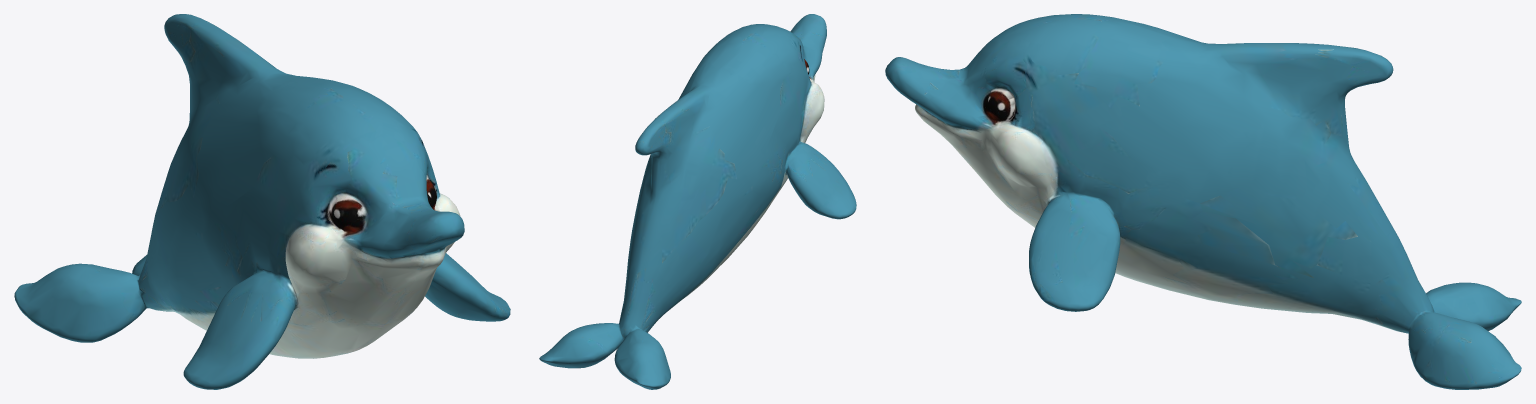
File: dolphin.glb
3 renders of one model, left to right at view 1: azimuth 30°, elevation 25°; view 2: azimuth 150°, elevation 25°; view 3: azimuth 270°, elevation 25°, orthographic. The views are drawn at different scales.
Size of the model in its own units: 0.9818 by 1.12 by 1.9.
1 material, 1 textured.
